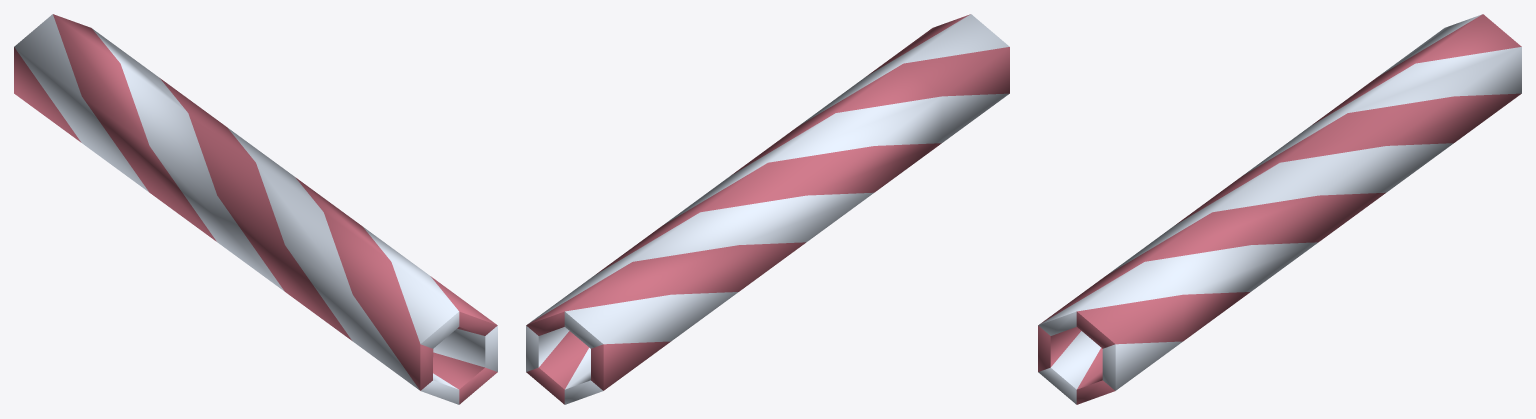
Rendered from Straw_geo.fbx.
3 renders of one model, left to right at view 1: azimuth 30°, elevation 25°; view 2: azimuth 150°, elevation 25°; view 3: azimuth 330°, elevation 25°, orthographic.
Parts seen in each view (by area): view 1: Straw_geo; view 2: Straw_geo; view 3: Straw_geo.
Part boxes in pixels (x1,y1,x2,y2): Straw_geo: [14, 14, 497, 404]; Straw_geo: [526, 14, 1009, 404]; Straw_geo: [1038, 14, 1521, 404].
Size of the model in its own units: 0.08 by 0.7274 by 0.0924.
